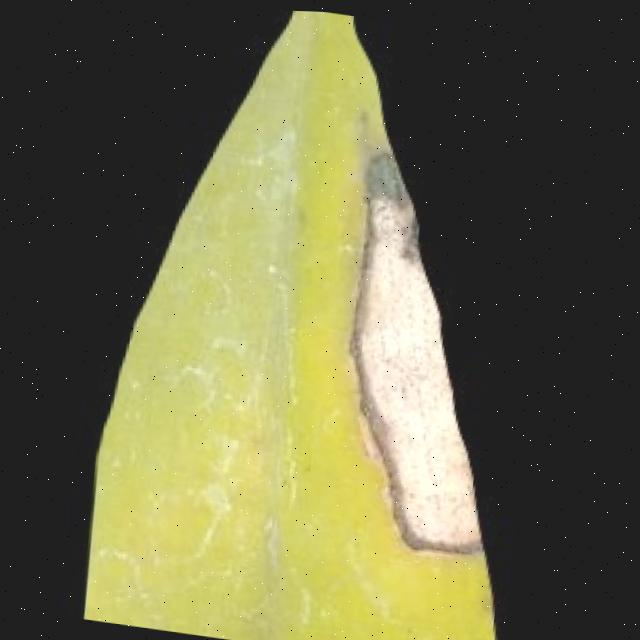mite: (354, 140, 405, 199)
sunburn: (317, 127, 520, 560)
